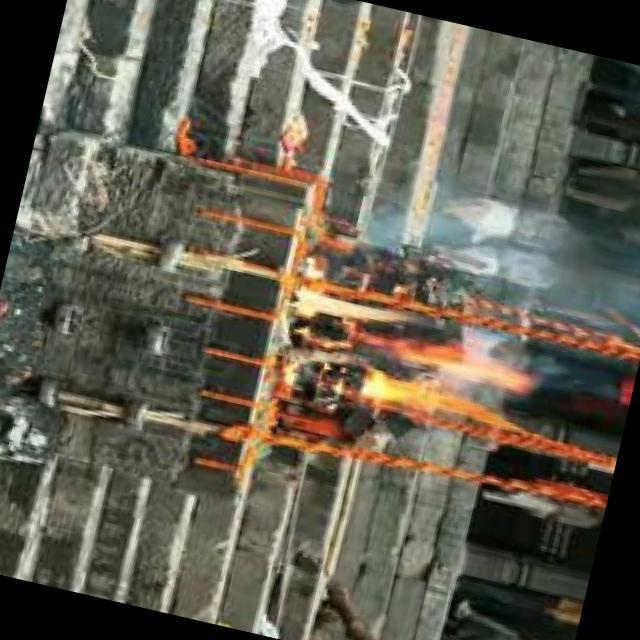Fire: (275, 278, 541, 445)
